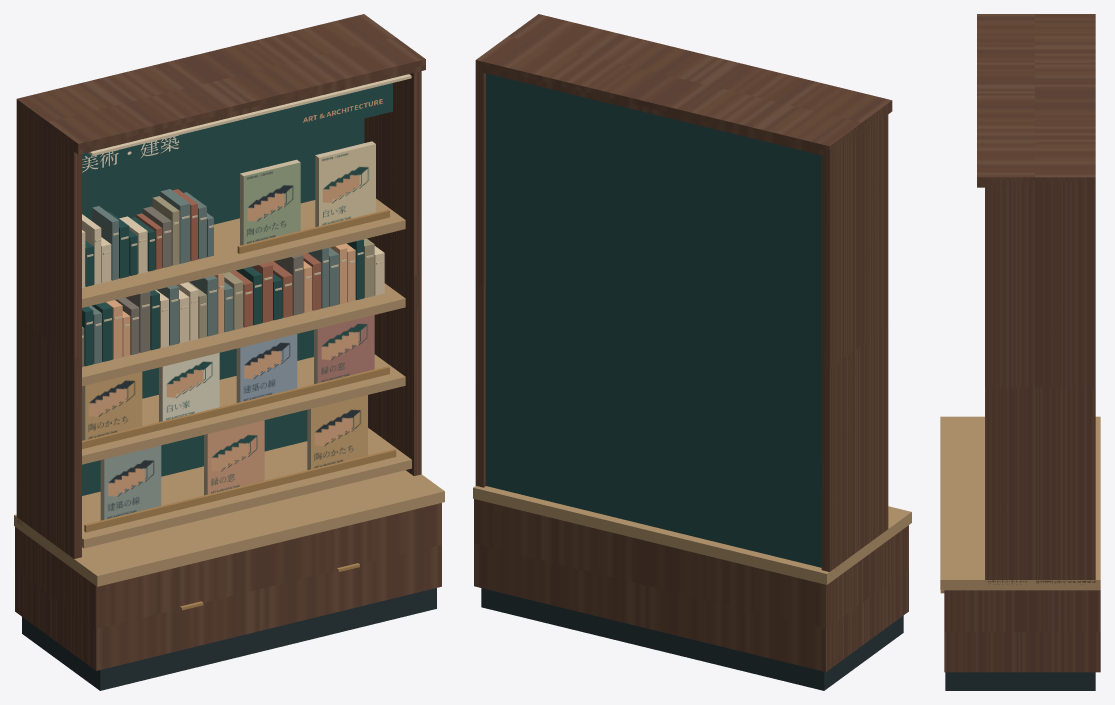
The model's file is orienne_atelier_1.glb.
The picture shows the model from 3 angles, left to right: view 1: azimuth 30°, elevation 25°; view 2: azimuth 150°, elevation 25°; view 3: azimuth 270°, elevation 25°; orthographic projection. The views are drawn at different scales.
Bounding box in the file's own units: 1.95 × 2.88 × 0.81.
Materials: 1 (1 with a texture image).
